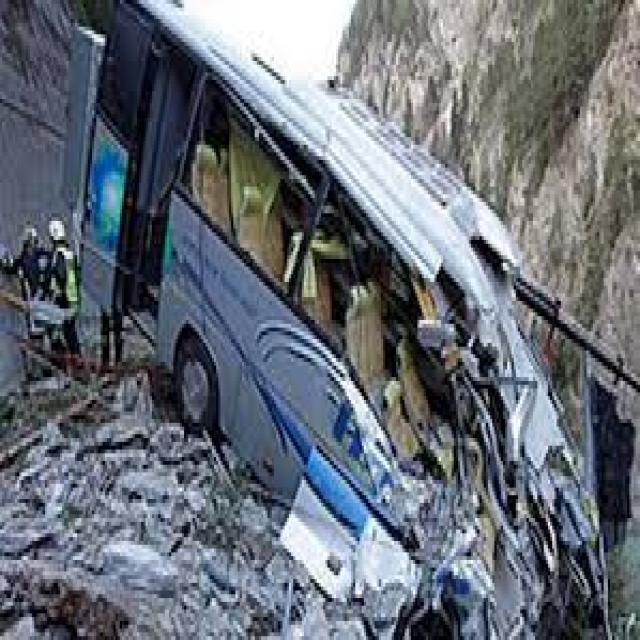accident: (80, 0, 605, 637)
